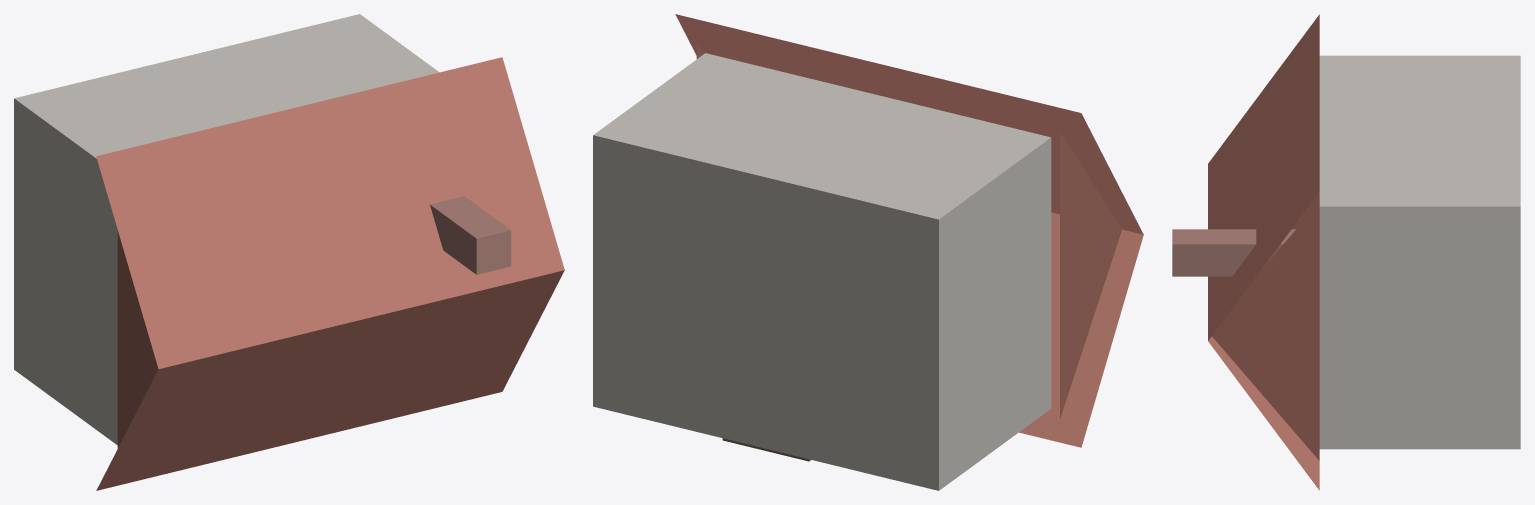
Rendered from house.glb.
3 views of the same model, side by side, from view 1: azimuth 30°, elevation 25°; view 2: azimuth 150°, elevation 25°; view 3: azimuth 270°, elevation 25° (orthographic). The views are drawn at different scales.
Size of the model in its own units: 9.4 by 7.4 by 7.8.
